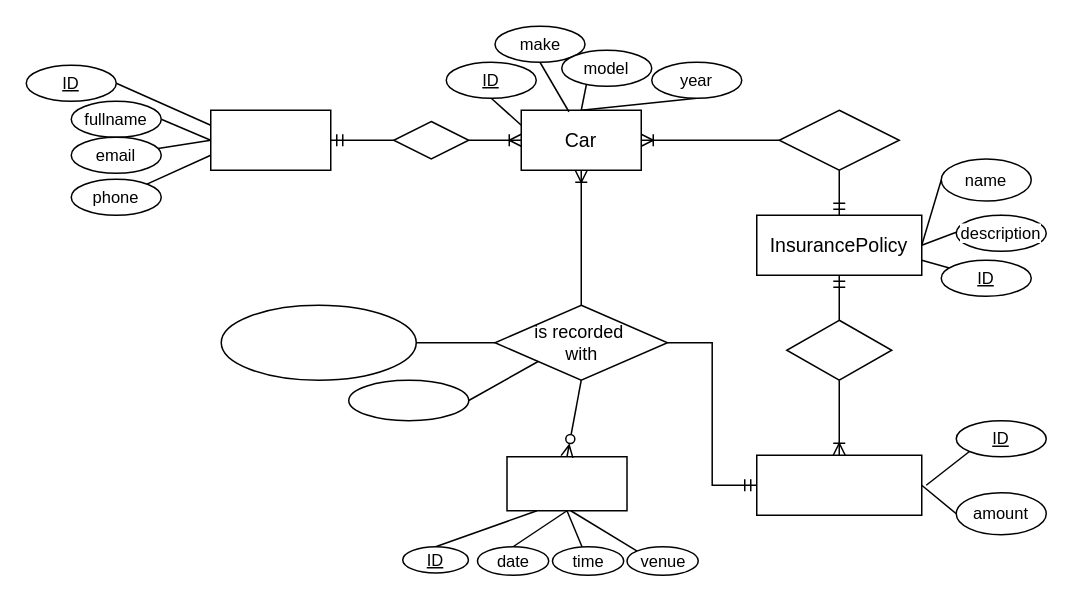
This 1073x602 diagram has some shape labels left out. The shapes that lost their labels are listed below. From the top down, each one's centre as x and y in pixels, then its label:
(270,139): Customer
(430,139): owns
(838,139): covers
(318,342): payment_received_date
(838,349): has
(408,400): due_date
(566,483): Accident
(838,484): Payment
